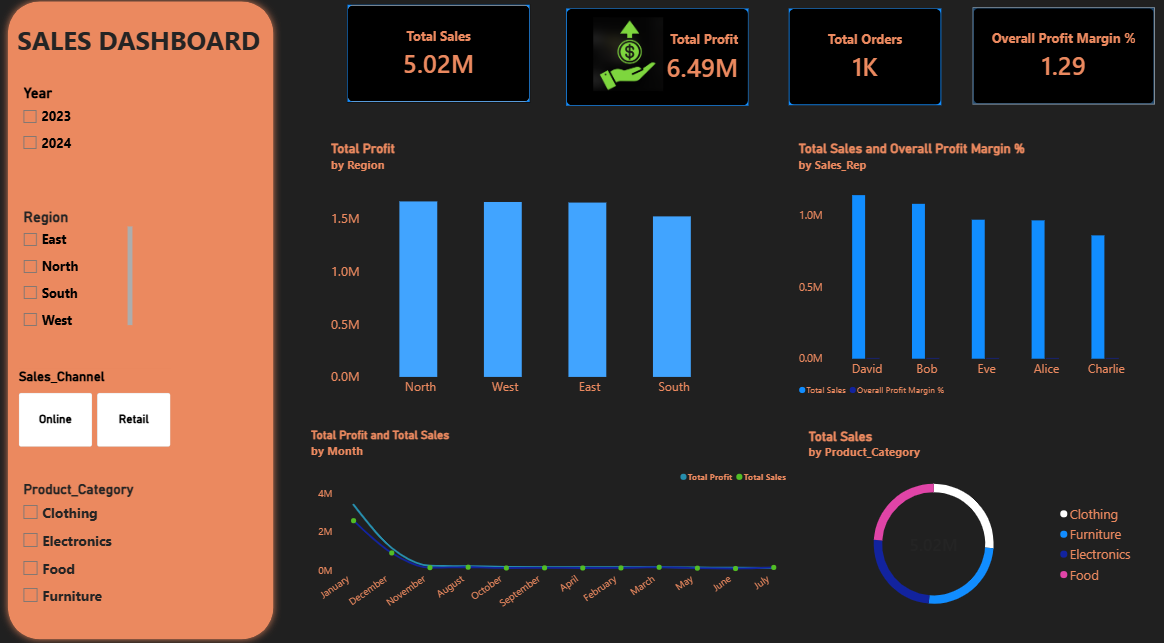

The page's visual inventory and layout, read from the dashboard file:
{"tool":"powerbi","page":{"name":"Page 1","canvas":[1920,1080],"ordinal":0},"visuals":[{"type":"cardVisual","fields":{"Data":["cleaned_sales_data.Total Profit"]},"box":[932.4,28.8,300.5,160.5],"z":0},{"type":"cardVisual","fields":{"Data":["cleaned_sales_data.Total Orders"]},"box":[1298.8,28.8,251.1,159],"z":1000},{"type":"cardVisual","fields":{"Data":["cleaned_sales_data.Overall Profit Margin %"]},"box":[1601.4,26.8,300.5,160.5],"z":2000},{"type":"lineChart","fields":{"Category":["cleaned_sales_data.Month"],"Y":["cleaned_sales_data.Total Profit","cleaned_sales_data.Total Sales"]},"box":[496.1,706,819.2,343.7],"z":3000},{"type":"cardVisual","fields":{"Data":["cleaned_sales_data.Total Sales"]},"box":[572.2,22.6,300.5,160.5],"z":4000},{"type":"donutChart","fields":{"Category":["cleaned_sales_data.Product_Category"],"Y":["cleaned_sales_data.Total Sales"]},"box":[1315.3,706,572.2,343.7],"z":5000},{"type":"clusteredColumnChart","fields":{"Category":["cleaned_sales_data.Region"],"Y":["cleaned_sales_data.Total Profit"]},"box":[529,232.6,687.5,454.9],"z":6000},{"type":"clusteredColumnChart","fields":{"Category":["cleaned_sales_data.Sales_Rep"],"Y":["cleaned_sales_data.Total Sales","cleaned_sales_data.Overall Profit Margin %"]},"box":[1298.8,232.6,603.1,454.9],"z":7000},{"type":"shape","box":[0,4.1,463.1,1076.5],"z":8000},{"type":"textbox","box":[0,51.5,428.1,102.9],"z":9000},{"type":"slicer","fields":{"Values":["cleaned_sales_data.Year"]},"box":[30.9,154.4,333.4,156.4],"z":10000},{"type":"slicer","fields":{"Values":["cleaned_sales_data.Region"]},"box":[30.9,358.1,187.3,203.8],"z":11000},{"type":"slicer","fields":{"Values":["cleaned_sales_data.Product_Category"]},"box":[30.9,806.9,282,228.5],"z":12000},{"type":"advancedSlicerVisual","fields":{"Values":["cleaned_sales_data.Sales_Channel"]},"box":[30.9,621.6,251.1,129.7],"z":13000},{"type":"image","box":[905.7,43.2,257.3,121.4],"z":13001}]}

Visuals, with their boxes in screenshot pixels (x1, y1, x2, y2), scaled from the page's 1920x1080 canvas onto the 1164x643 screenshot:
cardVisual - cleaned_sales_data.Total Profit: {"x1": 565, "y1": 17, "x2": 747, "y2": 113}
cardVisual - cleaned_sales_data.Total Orders: {"x1": 787, "y1": 17, "x2": 940, "y2": 112}
cardVisual - cleaned_sales_data.Overall Profit Margin %: {"x1": 971, "y1": 16, "x2": 1153, "y2": 112}
lineChart - cleaned_sales_data.Month x cleaned_sales_data.Total Profit: {"x1": 301, "y1": 420, "x2": 797, "y2": 625}
cardVisual - cleaned_sales_data.Total Sales: {"x1": 347, "y1": 13, "x2": 529, "y2": 109}
donutChart - cleaned_sales_data.Product_Category x cleaned_sales_data.Total Sales: {"x1": 797, "y1": 420, "x2": 1144, "y2": 625}
clusteredColumnChart - cleaned_sales_data.Region x cleaned_sales_data.Total Profit: {"x1": 321, "y1": 138, "x2": 738, "y2": 409}
clusteredColumnChart - cleaned_sales_data.Sales_Rep x cleaned_sales_data.Total Sales: {"x1": 787, "y1": 138, "x2": 1153, "y2": 409}
shape: {"x1": 0, "y1": 2, "x2": 281, "y2": 642}
textbox: {"x1": 0, "y1": 31, "x2": 260, "y2": 92}
slicer - cleaned_sales_data.Year: {"x1": 19, "y1": 92, "x2": 221, "y2": 185}
slicer - cleaned_sales_data.Region: {"x1": 19, "y1": 213, "x2": 132, "y2": 335}
slicer - cleaned_sales_data.Product_Category: {"x1": 19, "y1": 480, "x2": 190, "y2": 616}
advancedSlicerVisual - cleaned_sales_data.Sales_Channel: {"x1": 19, "y1": 370, "x2": 171, "y2": 447}
image: {"x1": 549, "y1": 26, "x2": 705, "y2": 98}
